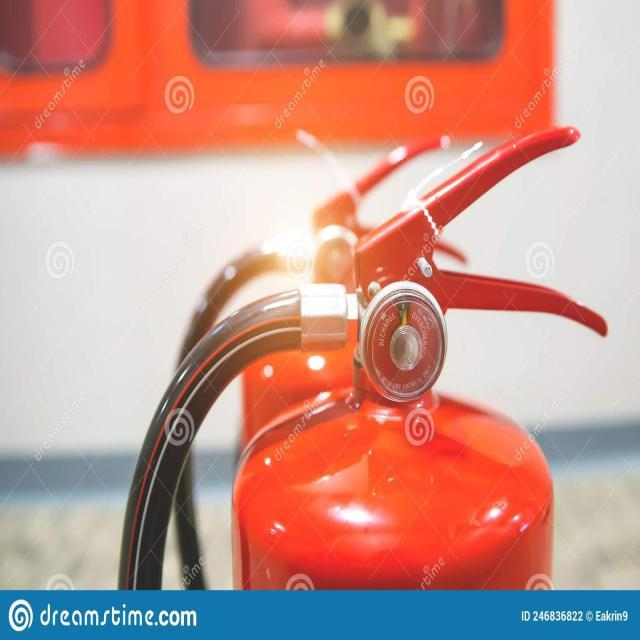fire_extinguisher: (112, 120, 611, 590)
